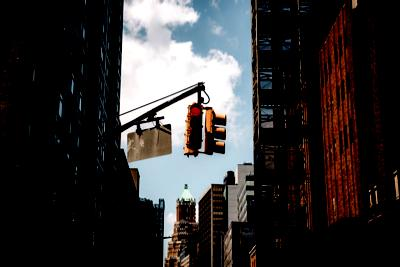International Road Signal Light: (184, 101, 229, 158)
